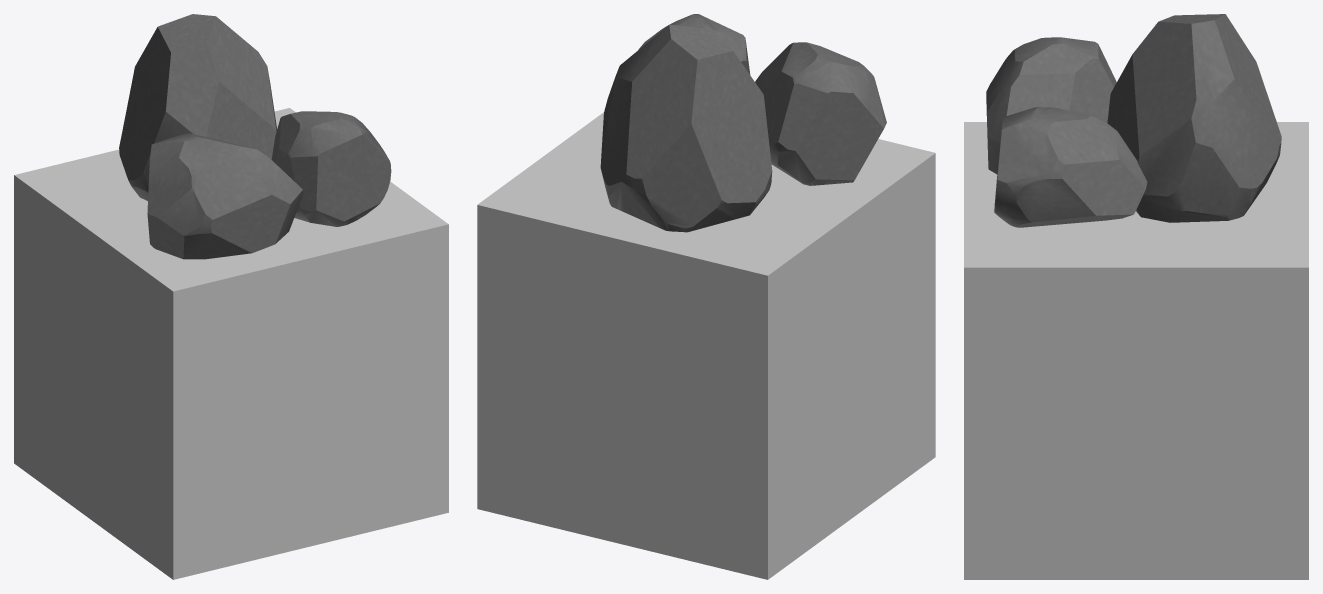
The model's file is skaly.obj.
3 renders of one model, left to right at view 1: azimuth 30°, elevation 25°; view 2: azimuth 150°, elevation 25°; view 3: azimuth 270°, elevation 25°, orthographic. The views are drawn at different scales.
Parts seen in each view (by area): view 1: Box001.058, Sphere_057, Sphere_058, Sphere_059; view 2: Box001.058, Sphere_057, Sphere_058, Sphere_059; view 3: Box001.058, Sphere_057, Sphere_059, Sphere_058.
Boxes of the visible parts, box(x1,y1,x2,y2) form: Box001.058: box(14, 108, 448, 579); Sphere_057: box(119, 14, 277, 200); Sphere_058: box(147, 133, 303, 259); Sphere_059: box(271, 111, 391, 226); Box001.058: box(477, 112, 935, 579); Sphere_057: box(600, 24, 772, 232); Sphere_058: box(755, 42, 886, 185); Sphere_059: box(638, 14, 750, 74); Box001.058: box(964, 122, 1308, 579); Sphere_057: box(1107, 14, 1281, 222); Sphere_059: box(994, 107, 1147, 227); Sphere_058: box(986, 37, 1116, 174).
Size of the model in its own units: 0.254 by 0.3971 by 0.254.
